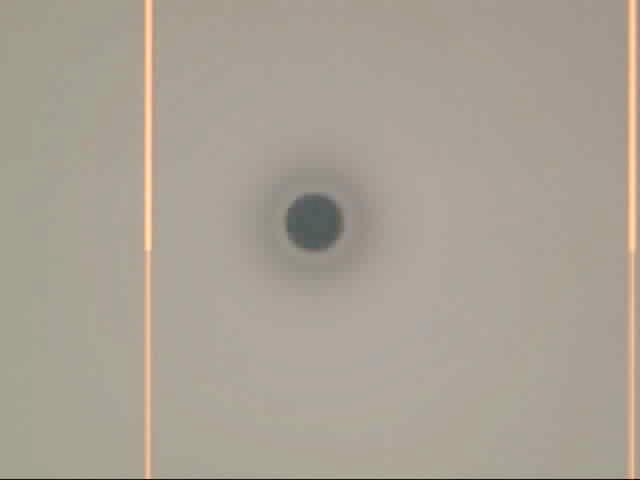PIQ PARTICLE: (241, 152, 389, 300)
